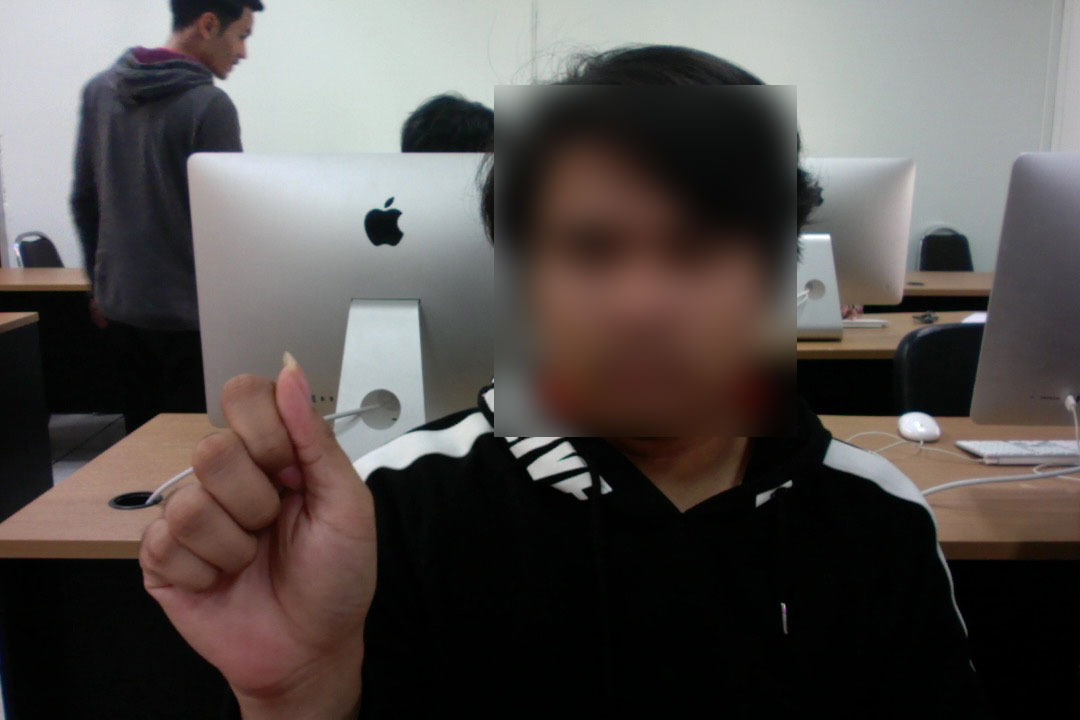or: (120, 340, 392, 687)
